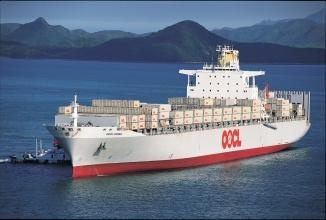Cargoship: (45, 46, 314, 179)
otherboat: (13, 138, 73, 170)
